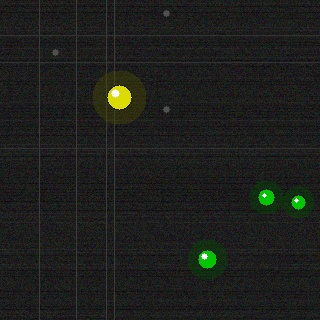green_normal: (196, 248, 218, 270), (256, 187, 276, 207), (289, 193, 307, 211)
yellow_warning: (105, 83, 133, 111)
